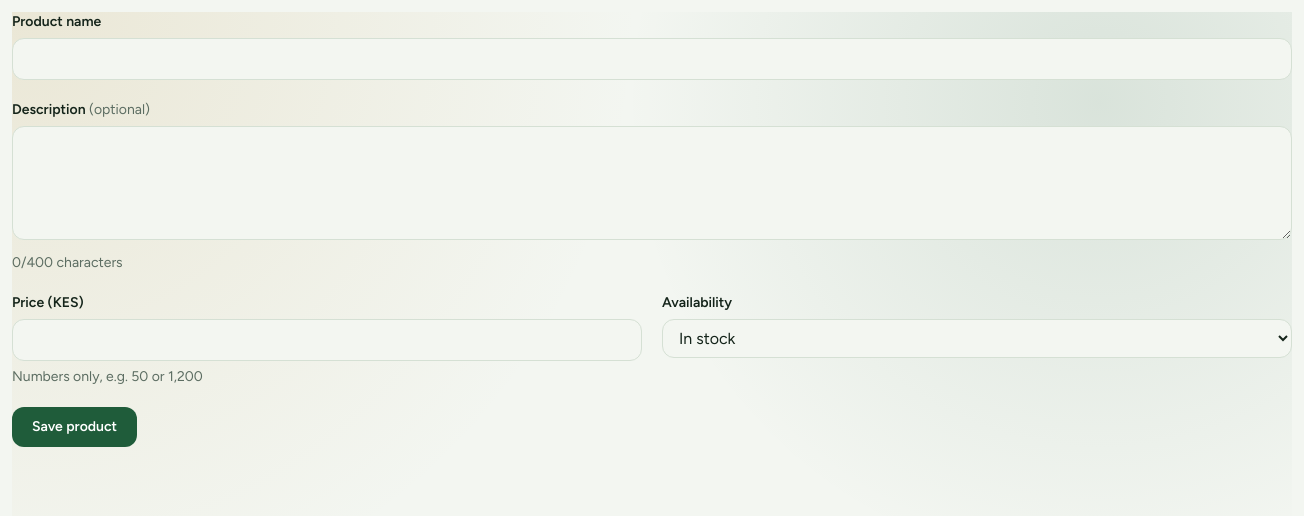
ProductForm › ties each invalid field to its visible error and focuses the first one
Click the button "Save product" at (75, 427), box [12, 407, 137, 447]
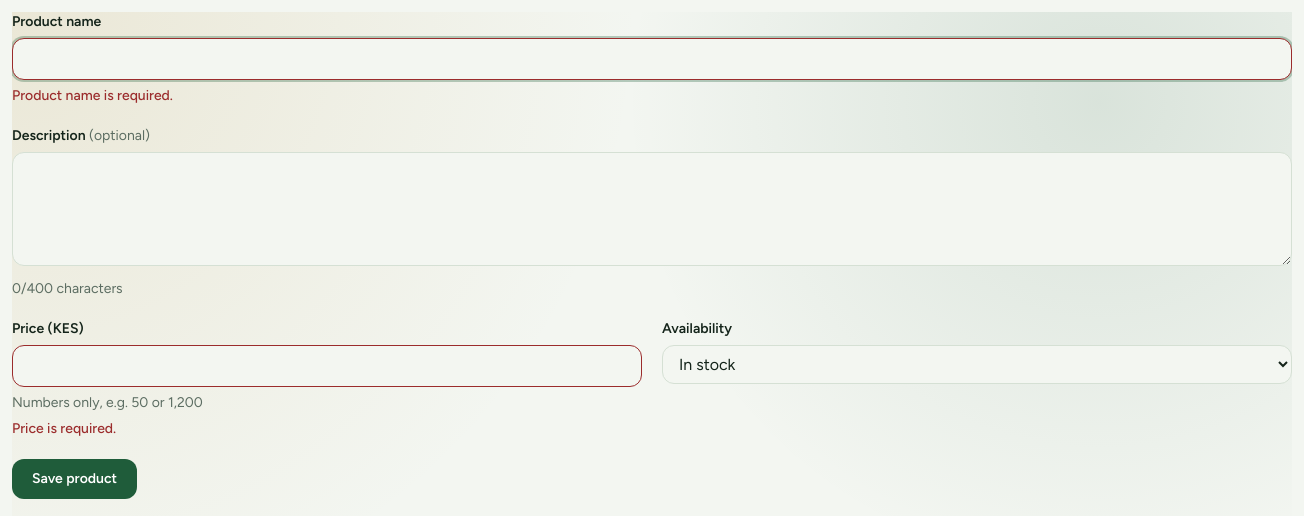
Result: the text with id "name-error" reads "Product name is required." at [12, 87, 173, 104]
